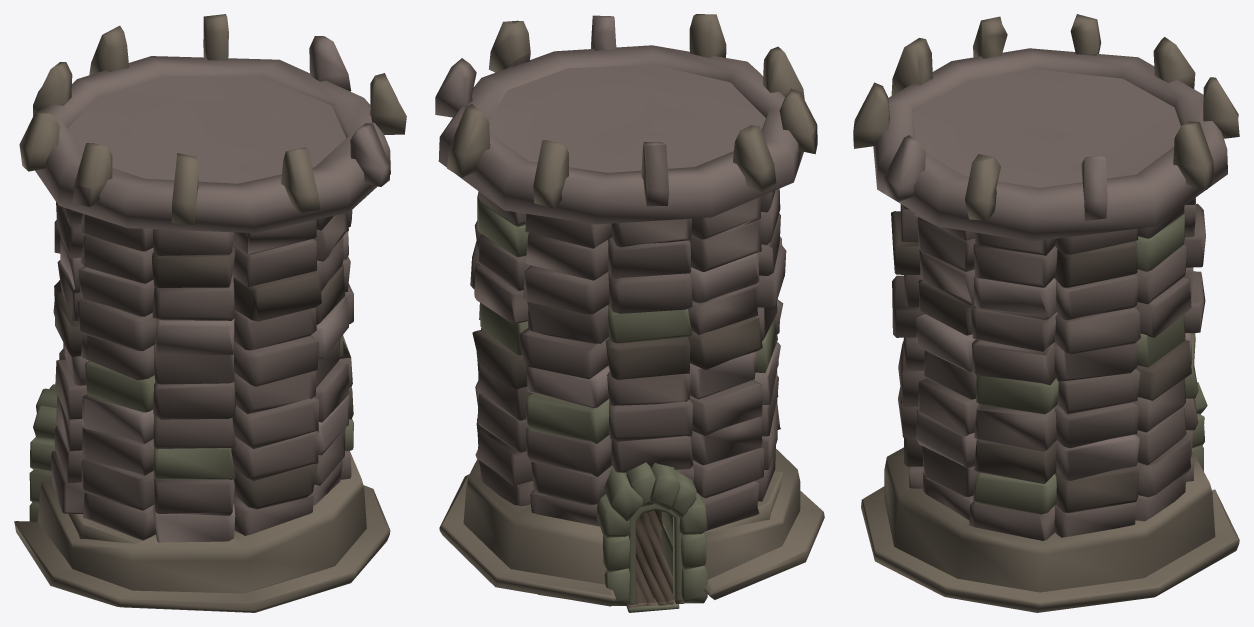
File: castle.fbx
The picture shows the model from 3 angles, left to right: view 1: azimuth 30°, elevation 25°; view 2: azimuth 150°, elevation 25°; view 3: azimuth 270°, elevation 25°; orthographic projection.
Visible parts, largest first — view 1: Castle_Tower_2; view 2: Castle_Tower_2; view 3: Castle_Tower_2.
Boxes of the visible parts, x1,y1,x2,y2 form: Castle_Tower_2: (14,14,406,612); Castle_Tower_2: (435,14,824,612); Castle_Tower_2: (853,14,1239,612).
Bounding box in the file's own units: 766 × 1012 × 764.
